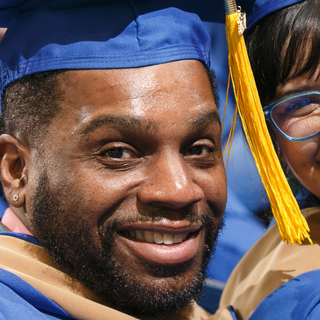eye: (95, 142, 144, 167), (178, 138, 217, 163)
